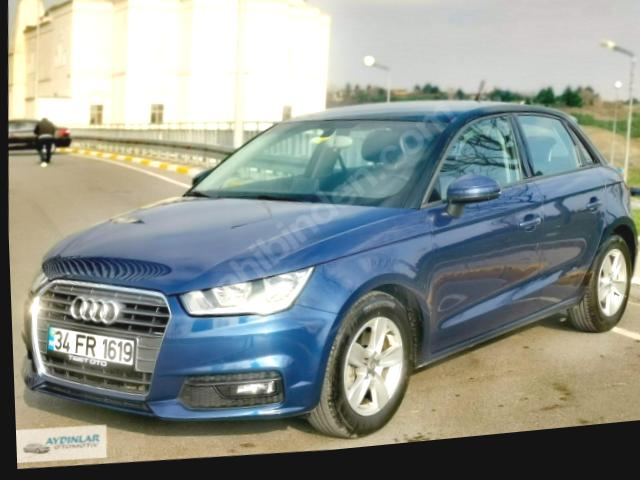plaka: (48, 326, 134, 367)
